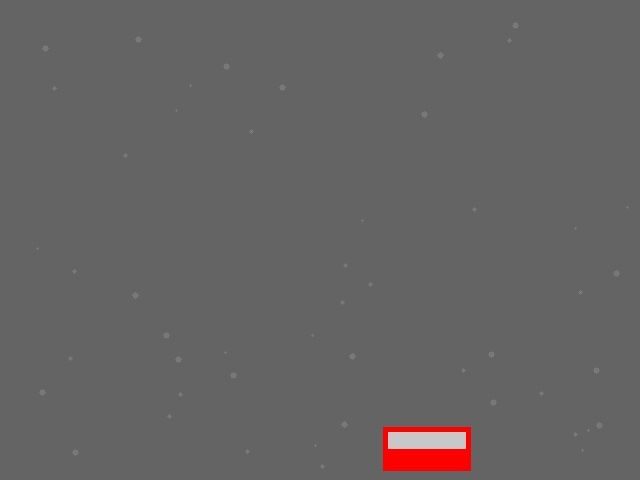car: (383, 427, 470, 470)
